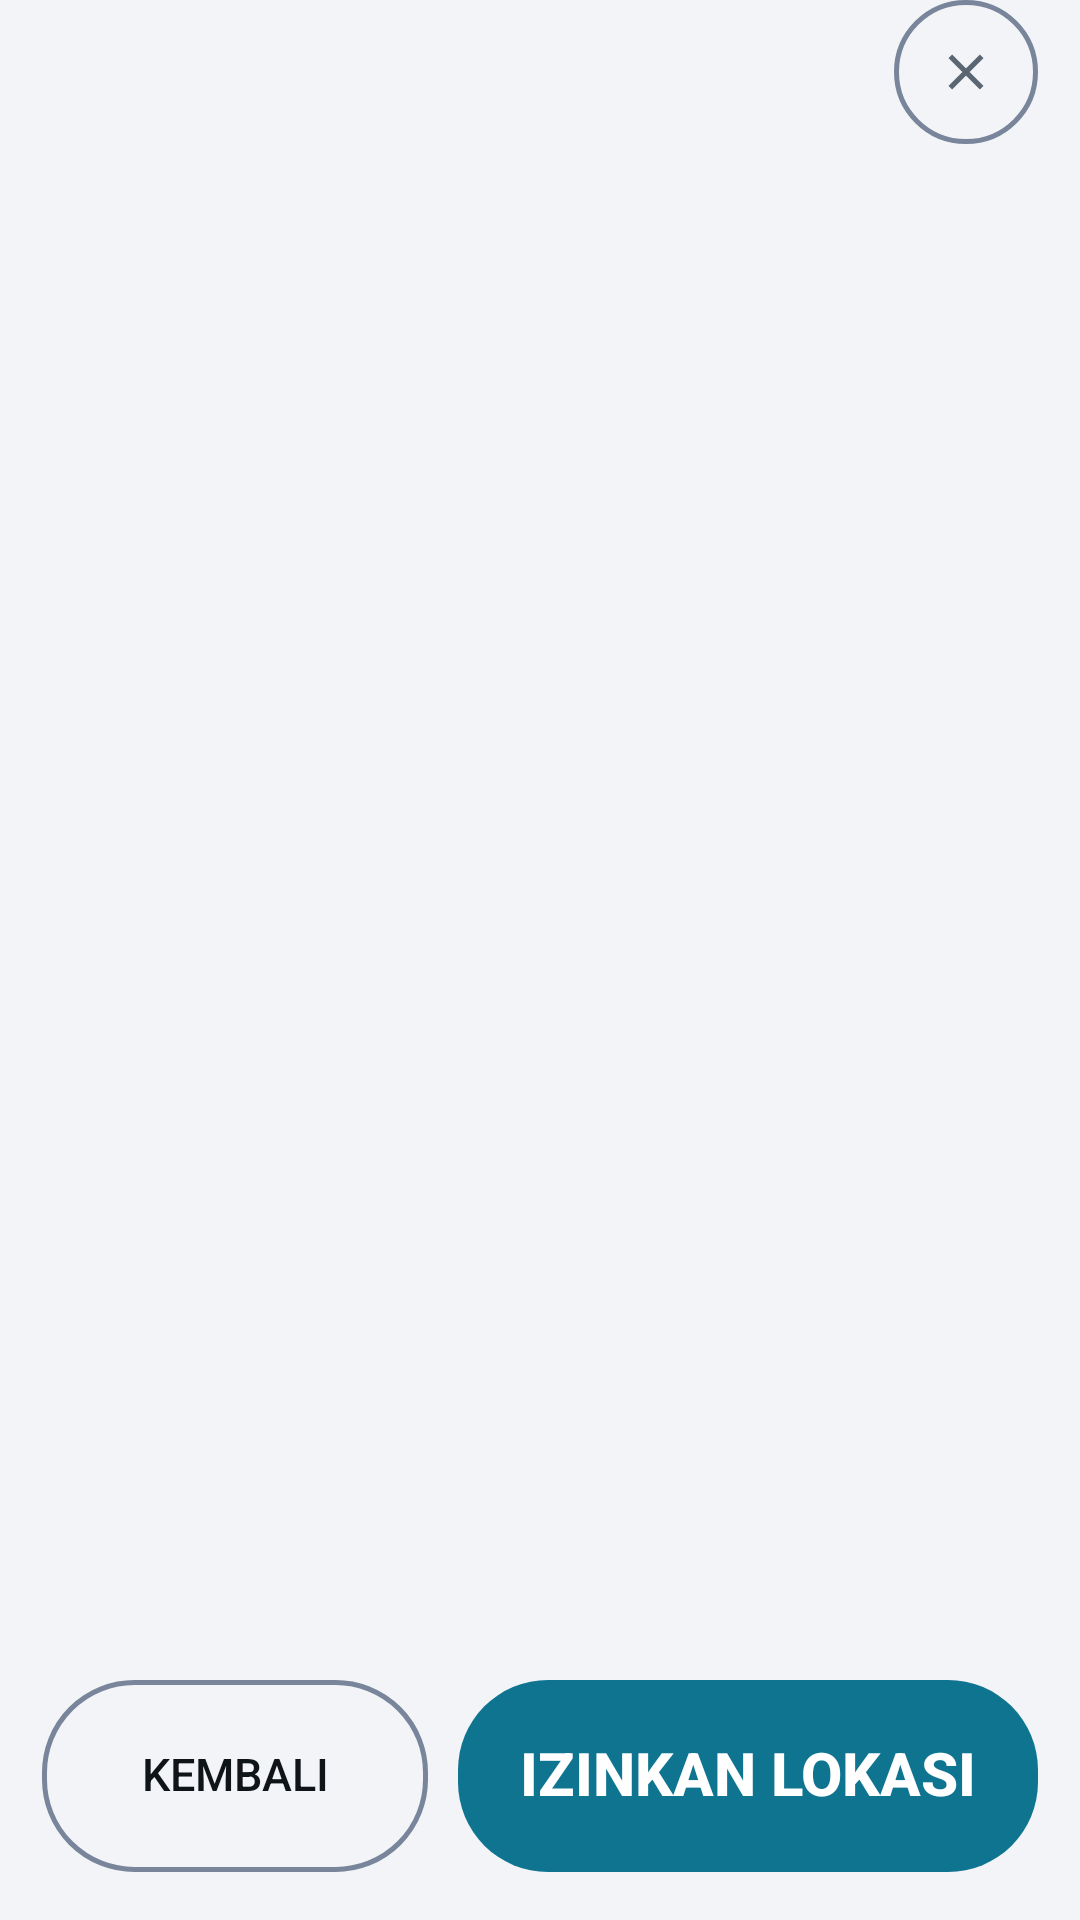

Named icons in this screenshot (1080×1920) and their bounding boxes, {"left": x1, "top": y1, "right": x2, "bottom": y2}:
Lewati: {"left": 894, "top": 0, "right": 1038, "bottom": 144}
